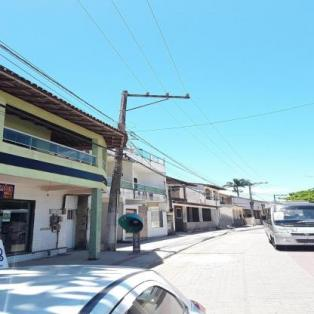Poste: (102, 87, 133, 248)
